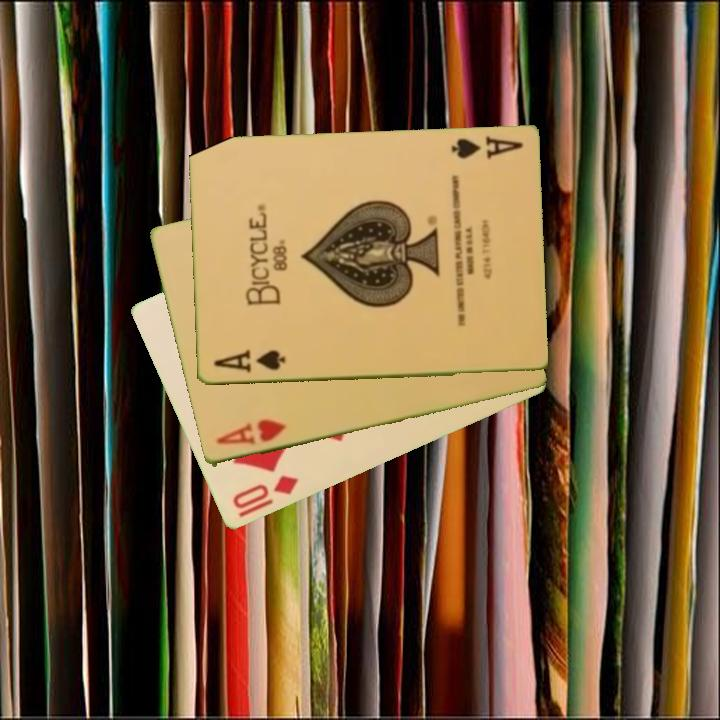10d: (229, 472, 301, 513)
Ah: (212, 416, 289, 448)
As: (209, 347, 287, 376), (447, 133, 525, 162)
